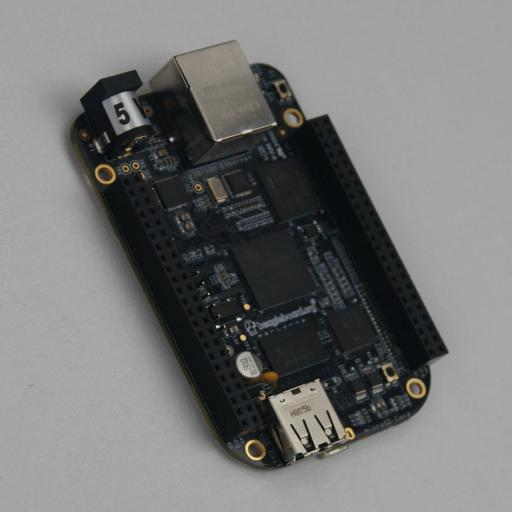Beaglebone Black: (65, 41, 449, 471)
